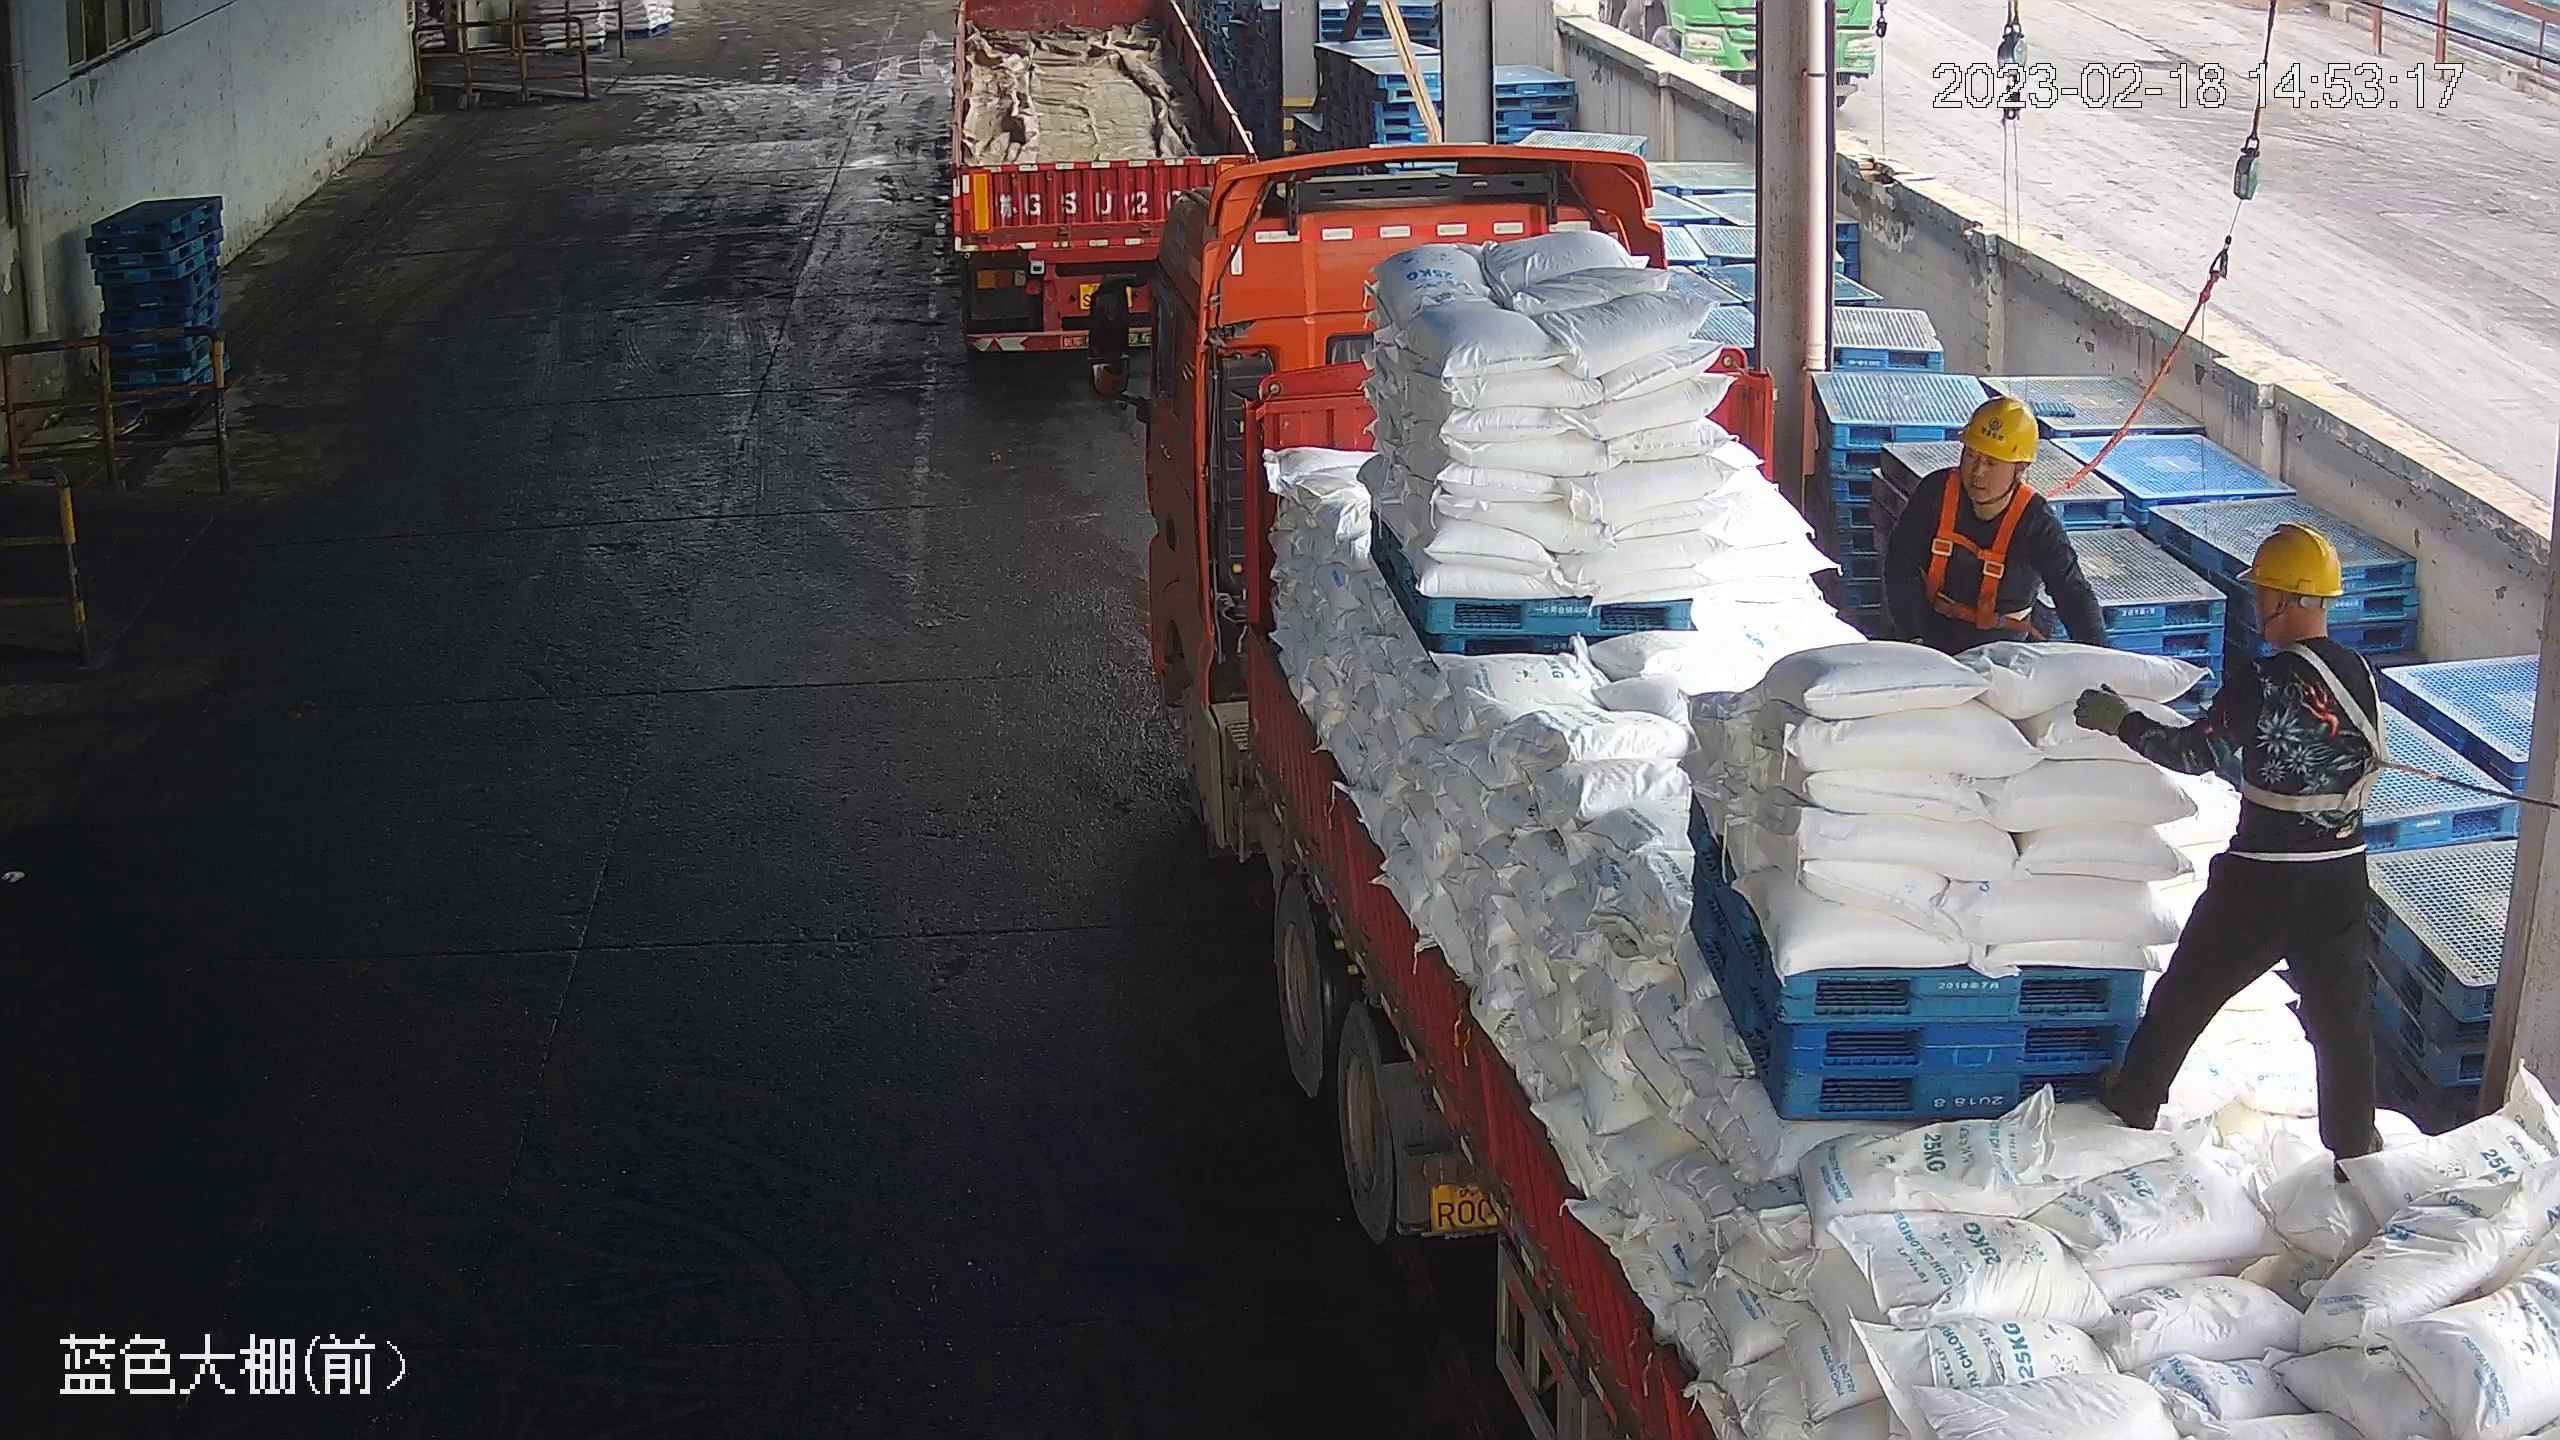belt: (2256, 646, 2389, 833), (1926, 473, 2048, 630)
head: (2217, 519, 2388, 732), (1902, 391, 2073, 561)
helmet: (2237, 520, 2344, 598), (1957, 394, 2041, 464)
people: (2074, 524, 2392, 1173)
truck: (1076, 152, 2557, 1436), (936, 1, 1285, 360)
